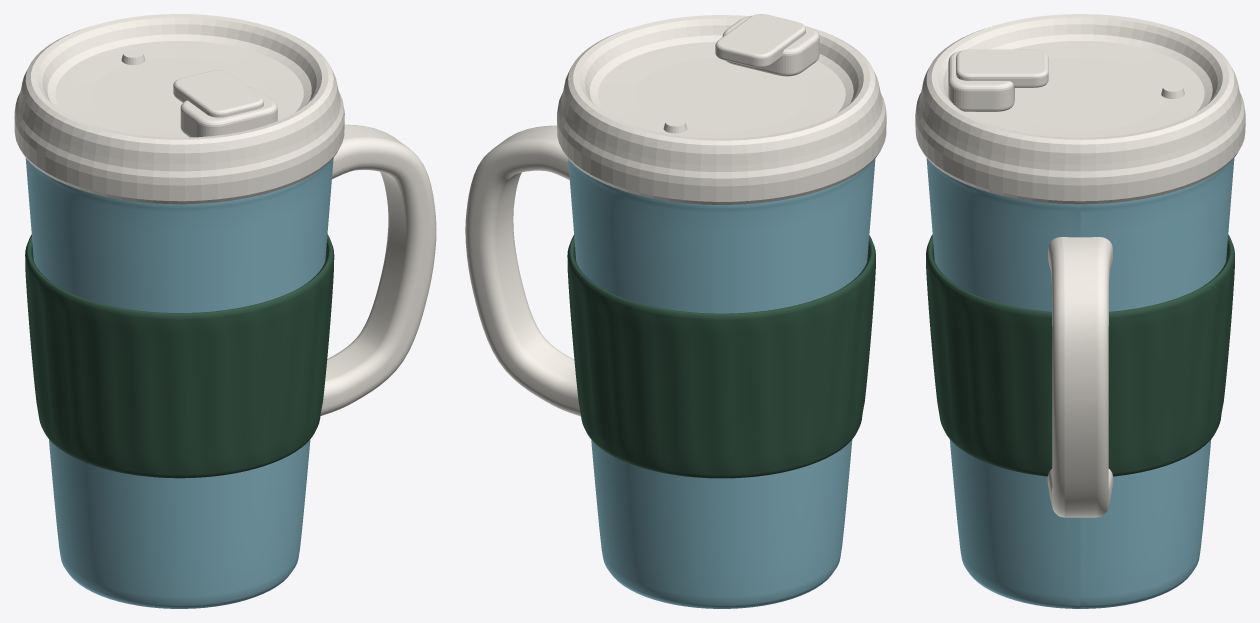
File: demo-coffee-cup.glb
The picture shows the model from 3 angles, left to right: view 1: azimuth 30°, elevation 25°; view 2: azimuth 150°, elevation 25°; view 3: azimuth 270°, elevation 25°; orthographic projection.
Parts seen in each view (by area): view 1: 杯身, 防漏杯盖, 防滑杯套, 侧边把手; view 2: 杯身, 防漏杯盖, 防滑杯套, 侧边把手; view 3: 杯身, 防漏杯盖, 防滑杯套, 侧边把手.
Boxes of the visible parts, x1,y1,x2,y2 form: 杯身: (25,158,333,608); 防漏杯盖: (14,14,344,204); 防滑杯套: (25,234,334,478); 侧边把手: (320,124,436,415); 杯身: (568,159,875,608); 防漏杯盖: (557,14,886,204); 防滑杯套: (567,235,875,478); 侧边把手: (465,125,580,416); 杯身: (926,158,1234,608); 防漏杯盖: (915,14,1245,204); 防滑杯套: (926,234,1234,476); 侧边把手: (1047,237,1113,517).
Size of the model in its own units: 12.41 by 15.2 by 9.1.
